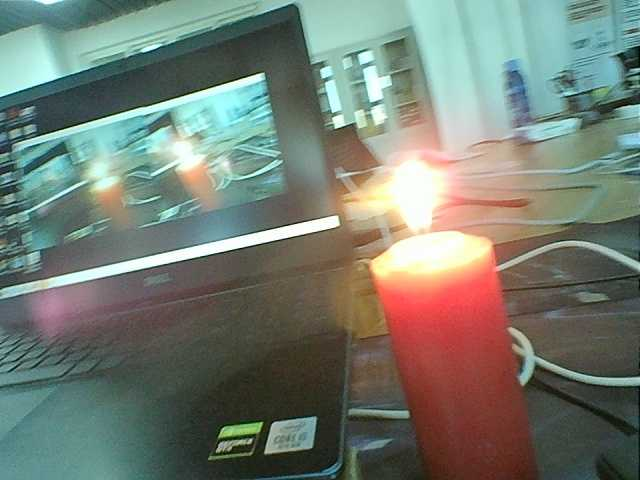candle: (361, 247, 539, 480), (93, 184, 138, 232), (178, 160, 217, 213)
fire: (369, 152, 482, 267), (170, 142, 204, 177), (89, 163, 117, 191)
